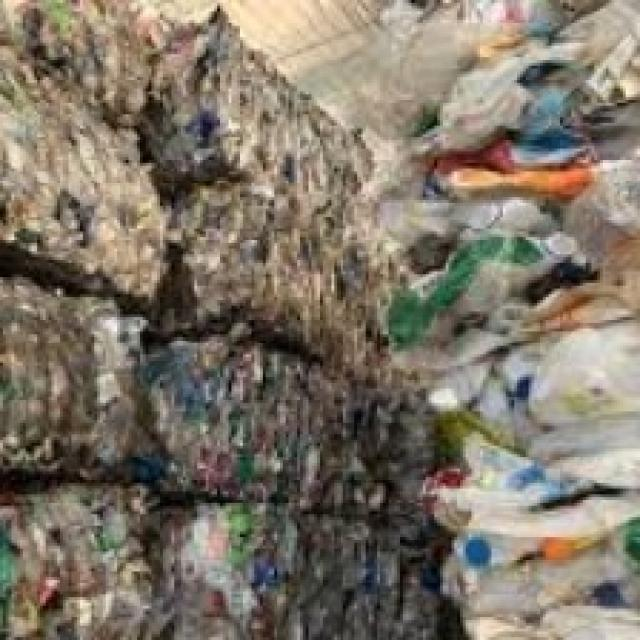heap: (165, 38, 396, 624), (417, 70, 640, 640)
plastic_bottle: (424, 379, 544, 496), (454, 516, 541, 572)
